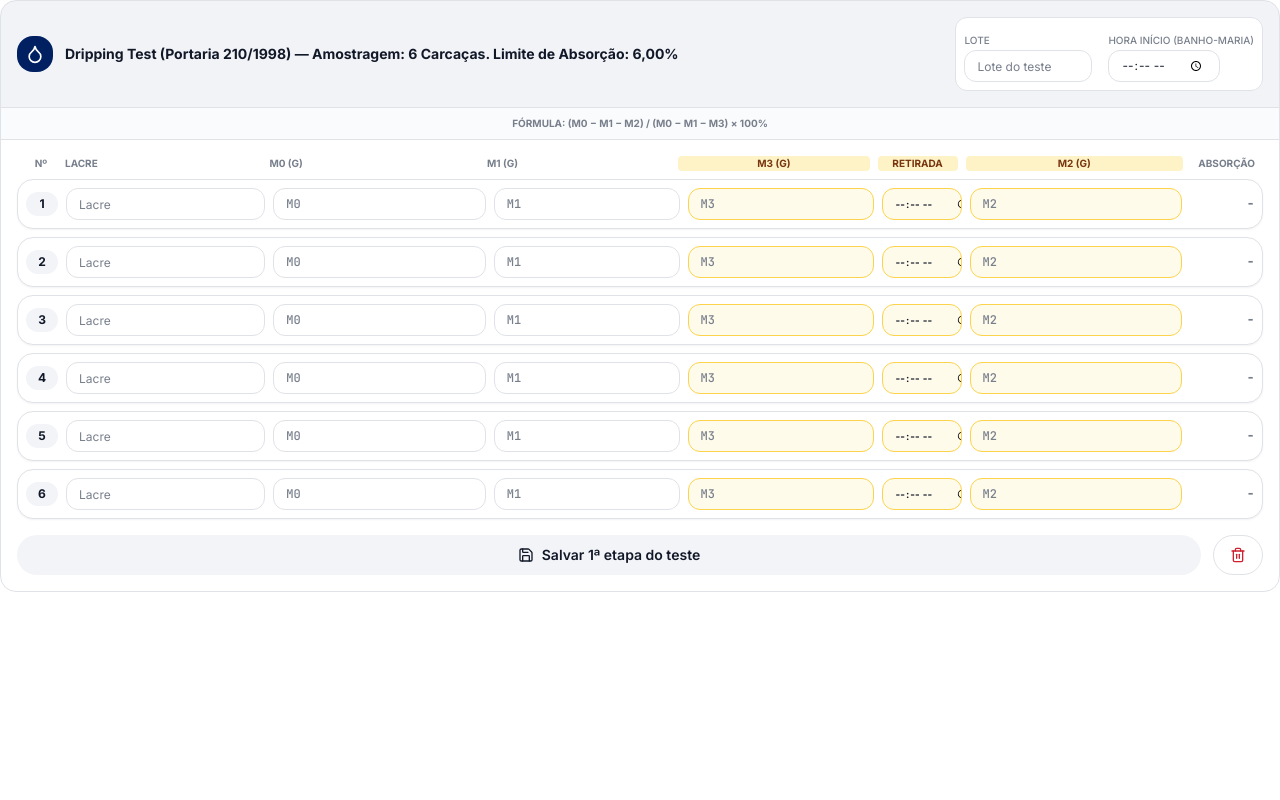
Test: B) Dripping Test — tela › Retirada/M3/M2 preenchidos levam o teste para a 2ª etapa (sem o botão de salvar a 1ª)
Type "09:20" into the time field with test id "hora-inicio-dripping" at (922, 204), box [882, 188, 962, 220]
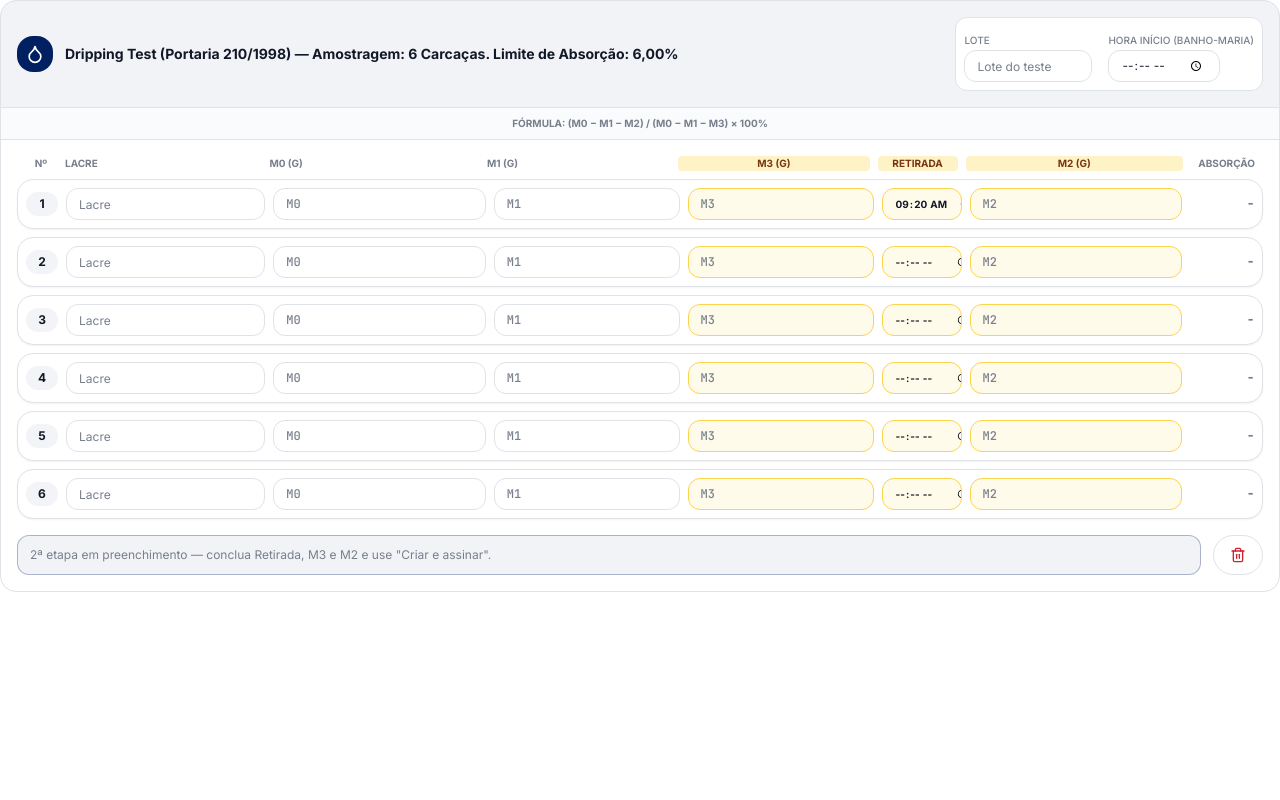
expect the button "Salvar 1ª etapa do teste" is gone: met
expect the text "2ª etapa em preenchimento" is shown: met, box [30, 547, 491, 562]
